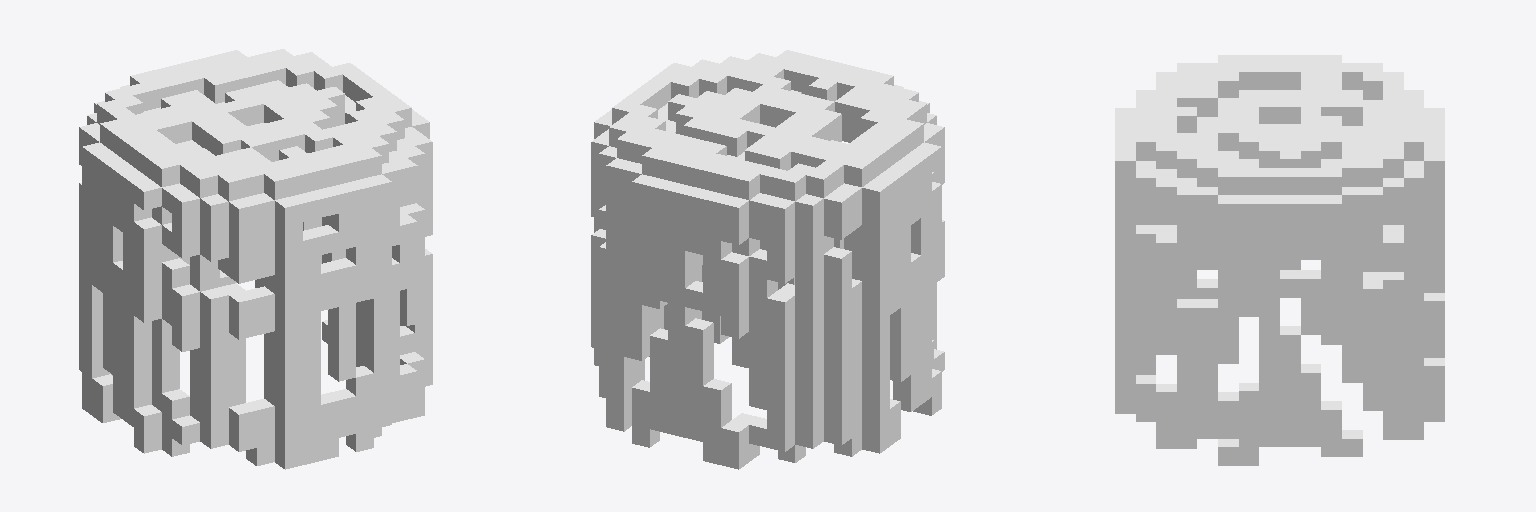
File: red-leaf-3.obj
3 views of the same model, side by side, from view 1: azimuth 30°, elevation 25°; view 2: azimuth 150°, elevation 25°; view 3: azimuth 270°, elevation 25° (orthographic).
Visible parts, largest first — view 1: object 1; view 2: object 1; view 3: object 1.
Boxes of the visible parts, x1=… form: object 1: x1=79, y1=49, x2=432, y2=469; object 1: x1=591, y1=50, x2=944, y2=469; object 1: x1=1115, y1=55, x2=1444, y2=465.
Size of the model in its own units: 1.6 by 1.5 by 1.6.